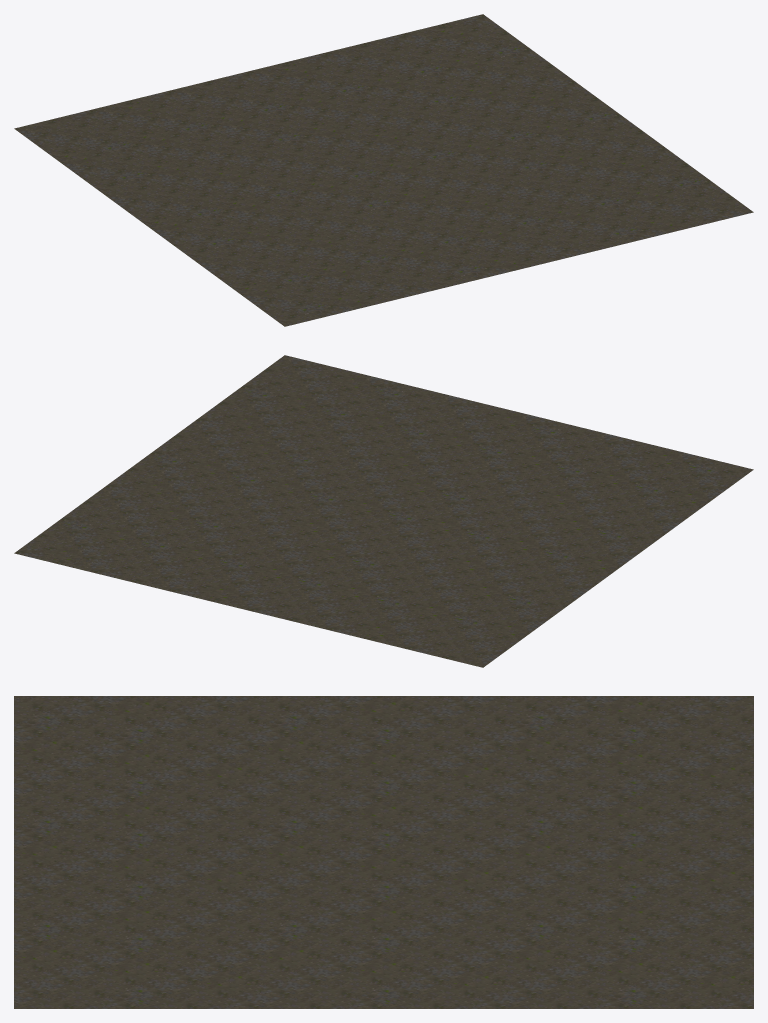
The model's file is oTerrainGroundMap02.FBX.
3 renders of one model, top to bottom at view 1: azimuth 30°, elevation 25°; view 2: azimuth 150°, elevation 25°; view 3: azimuth 270°, elevation 25°, orthographic. The views are drawn at different scales.
Parts seen in each view (by area): view 1: oTerrainGroundMap02; view 2: oTerrainGroundMap02; view 3: oTerrainGroundMap02.
Boxes of the visible parts, x1,y1,x2,y2 form: oTerrainGroundMap02: [14, 14, 753, 326]; oTerrainGroundMap02: [14, 355, 753, 667]; oTerrainGroundMap02: [14, 696, 753, 1008].
Size of the model in its own units: 1127 by 1127 by 0.
